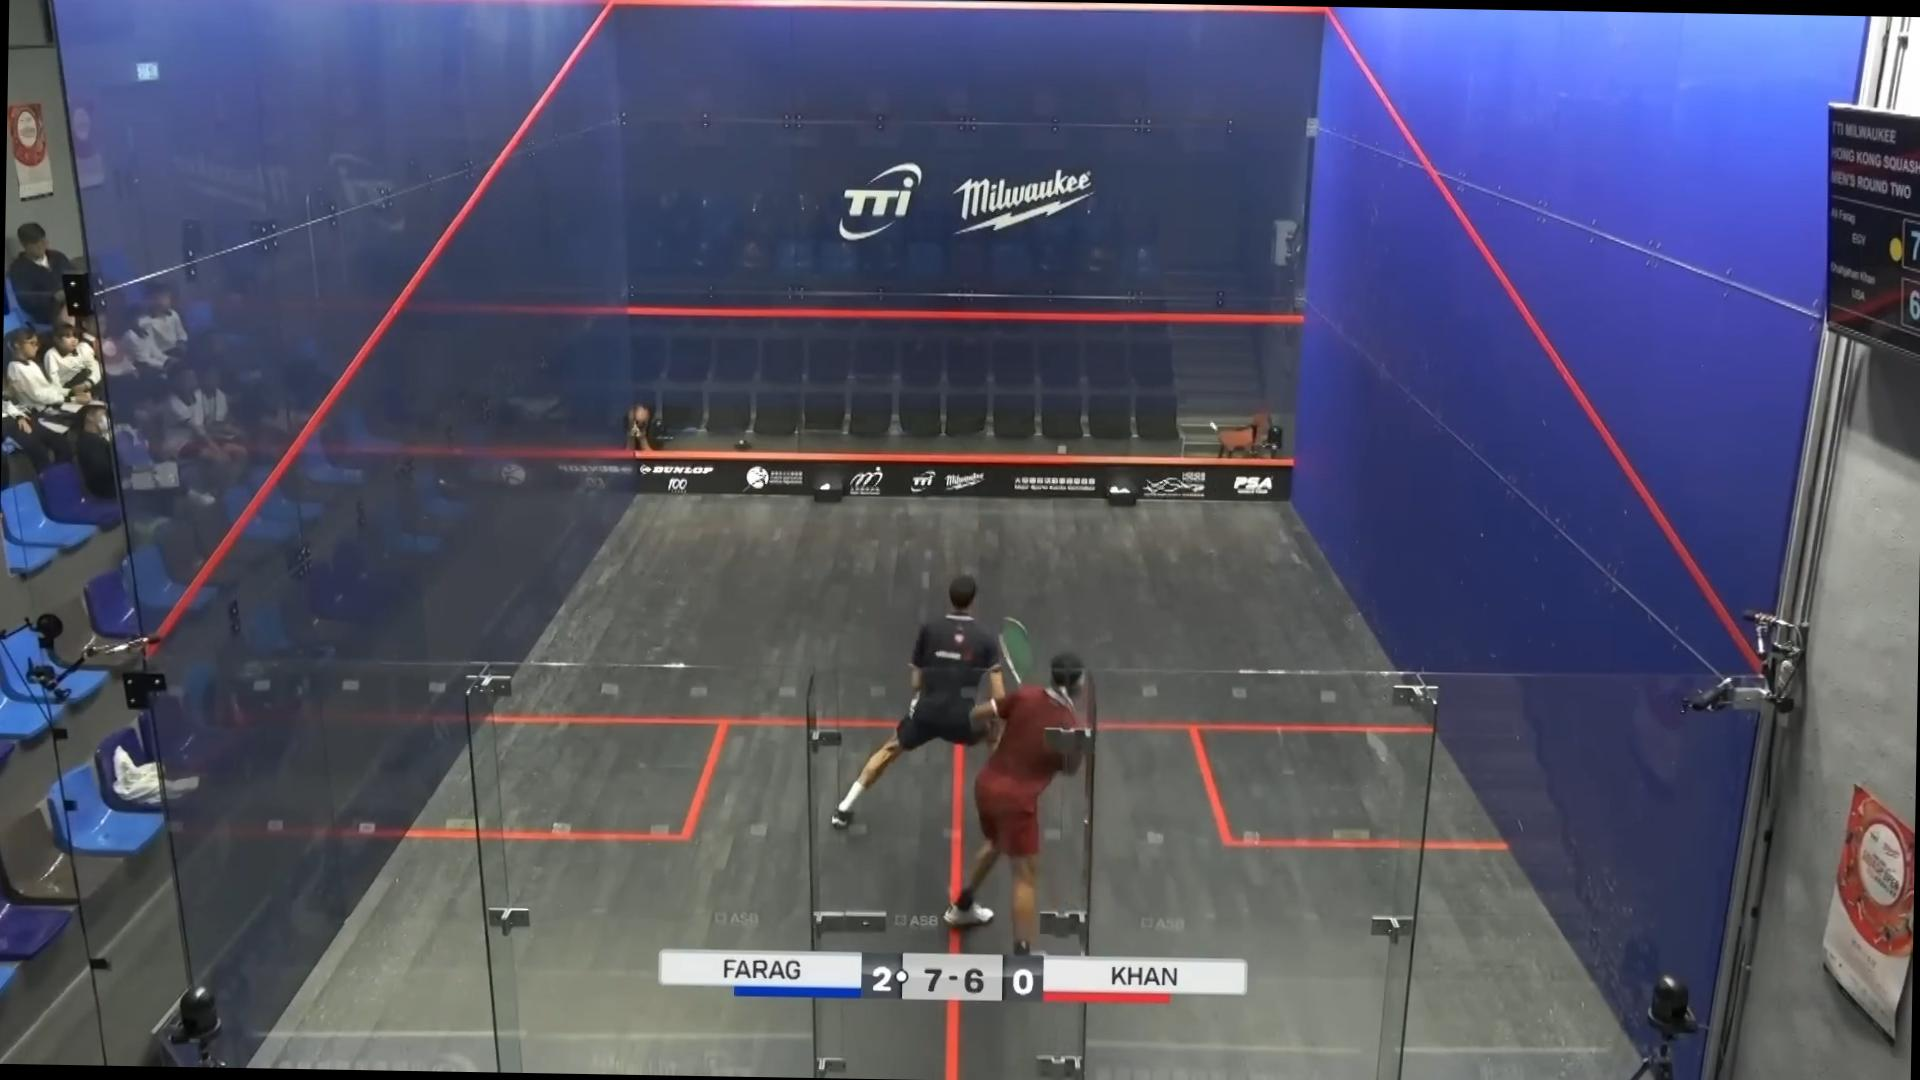Racket: (994, 612, 1035, 691)
